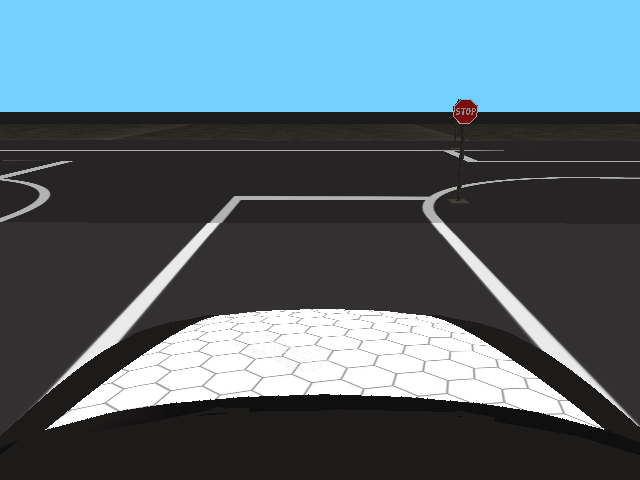stop: (452, 99, 478, 125)
